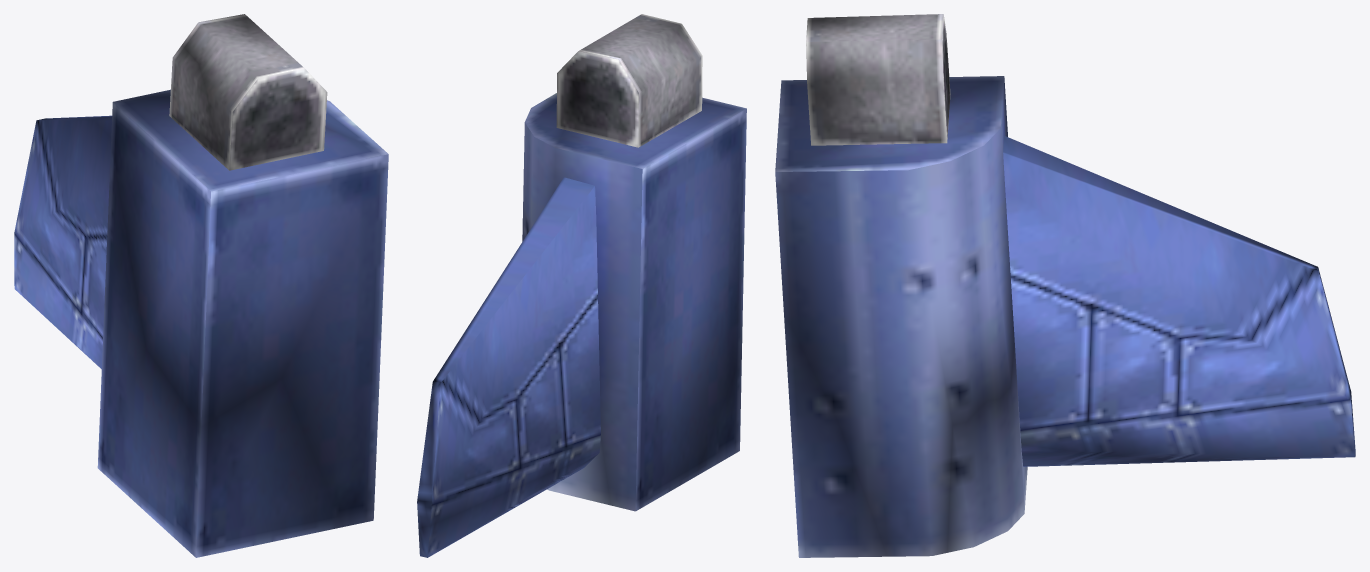
File: Robot01.LeftKnee2.fbx
3 views of the same model, side by side, from view 1: azimuth 30°, elevation 25°; view 2: azimuth 150°, elevation 25°; view 3: azimuth 270°, elevation 25° (orthographic). The views are drawn at different scales.
Parts seen in each view (by area): view 1: mesh_1072; view 2: mesh_1072; view 3: mesh_1072.
Part boxes in pixels (<box>): mesh_1072: <box>14,14,388,557</box>; mesh_1072: <box>417,14,746,557</box>; mesh_1072: <box>775,14,1355,557</box>.
Bounding box in the file's own units: 18.78 × 46.17 × 49.52.
